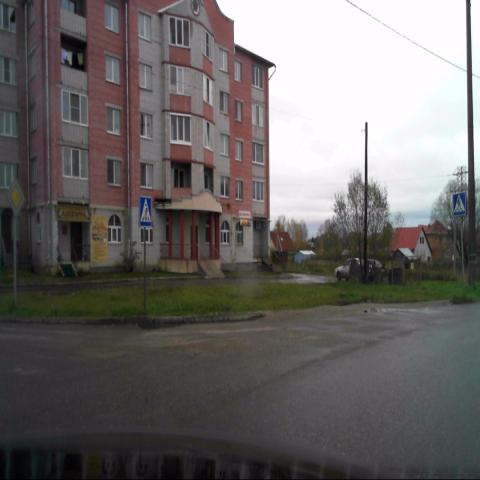2_1: (6, 178, 26, 215)
5_19_1: (138, 194, 152, 228), (452, 190, 467, 216)
